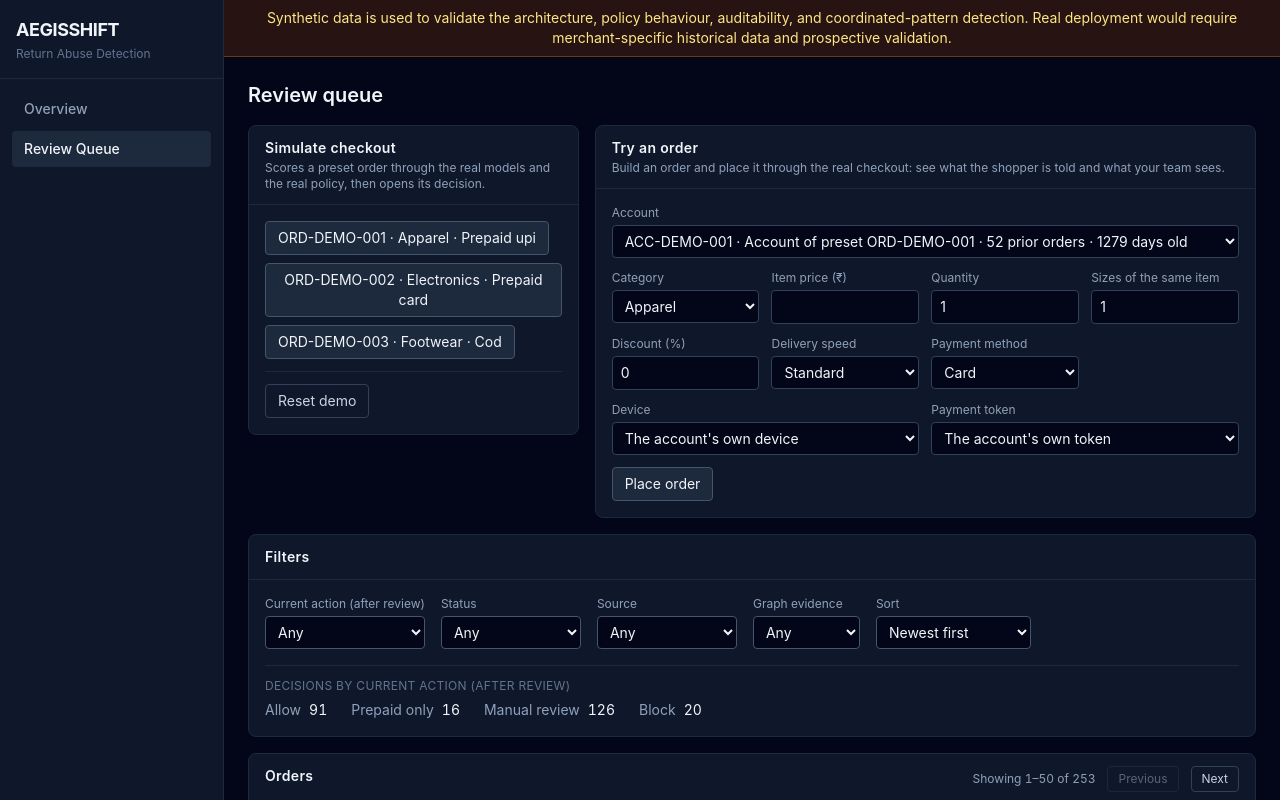
Test: placing an order › names an unknown account on a 404
This screenshot has width=1280, height=800.
Expected: the form with test id "try-form" is shown, [612,205,1239,501]
Select "ACC-DEMO-001 · Account of preset ORD-DEMO-001 · 52 prior orders · 1279 days old" in the dropdown labelled "Account" at (925, 242), box [612,225,1239,258]
Type "1499" into the number field labelled "Item price (₹)".
click(845, 307); type("1499")  # box [772,290,919,324]
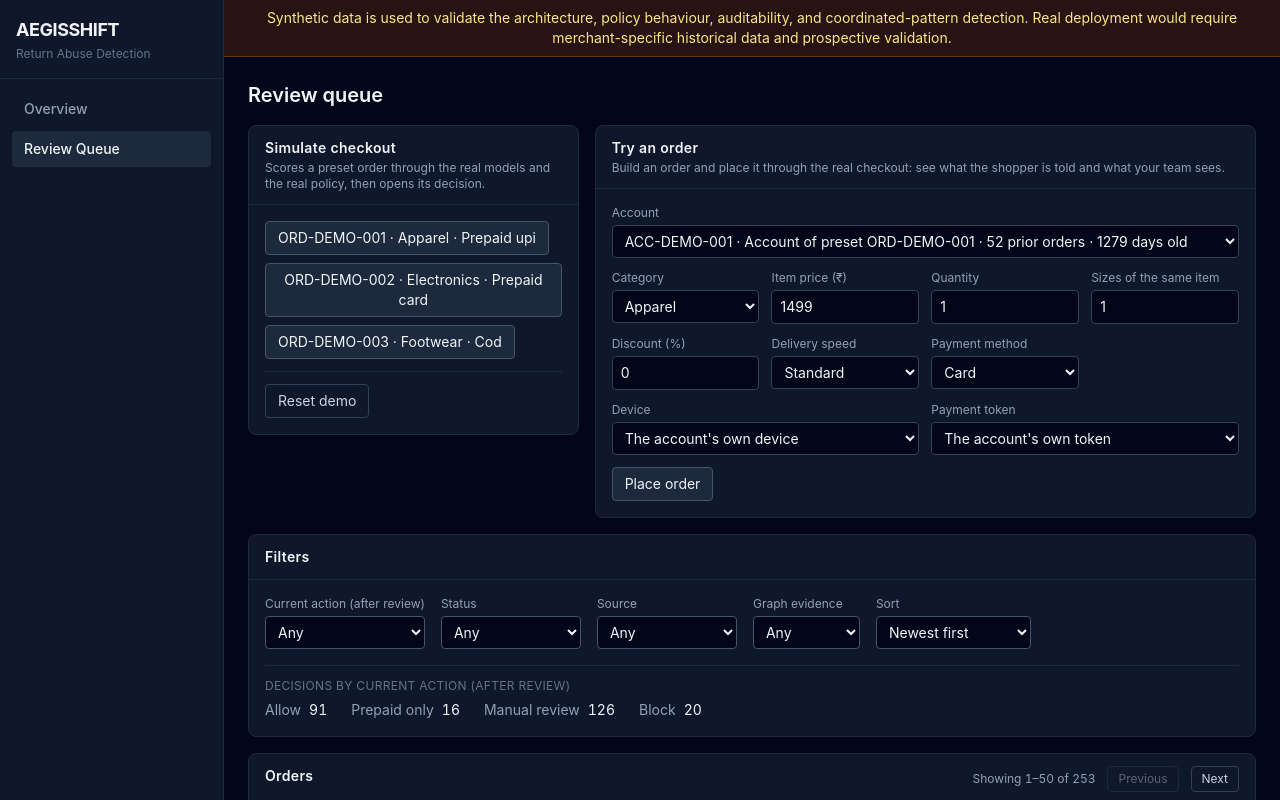
Click the button with test id "try-submit".
click(663, 484)  # box [612,467,713,501]
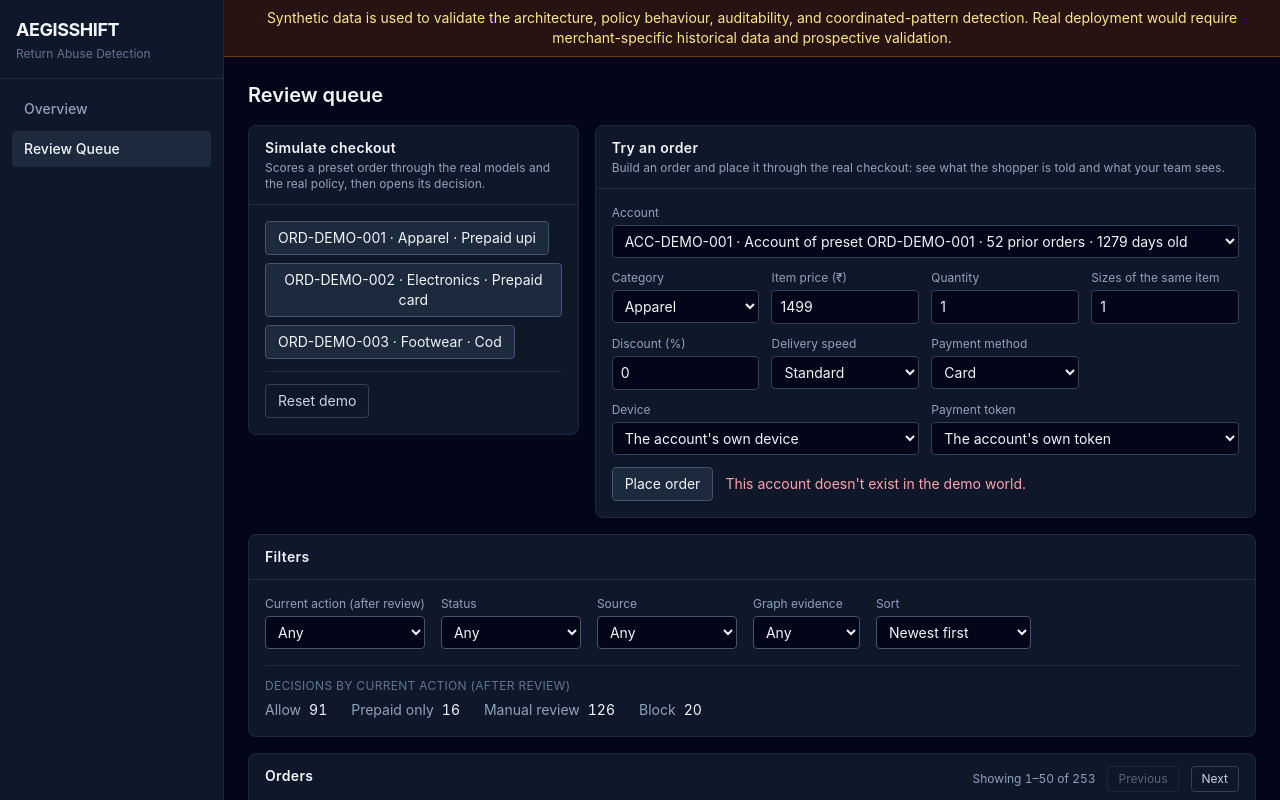
Now the message with test id "try-rejected" reads "This account doesn't exist in the demo world.", box [725,475,1026,492]
